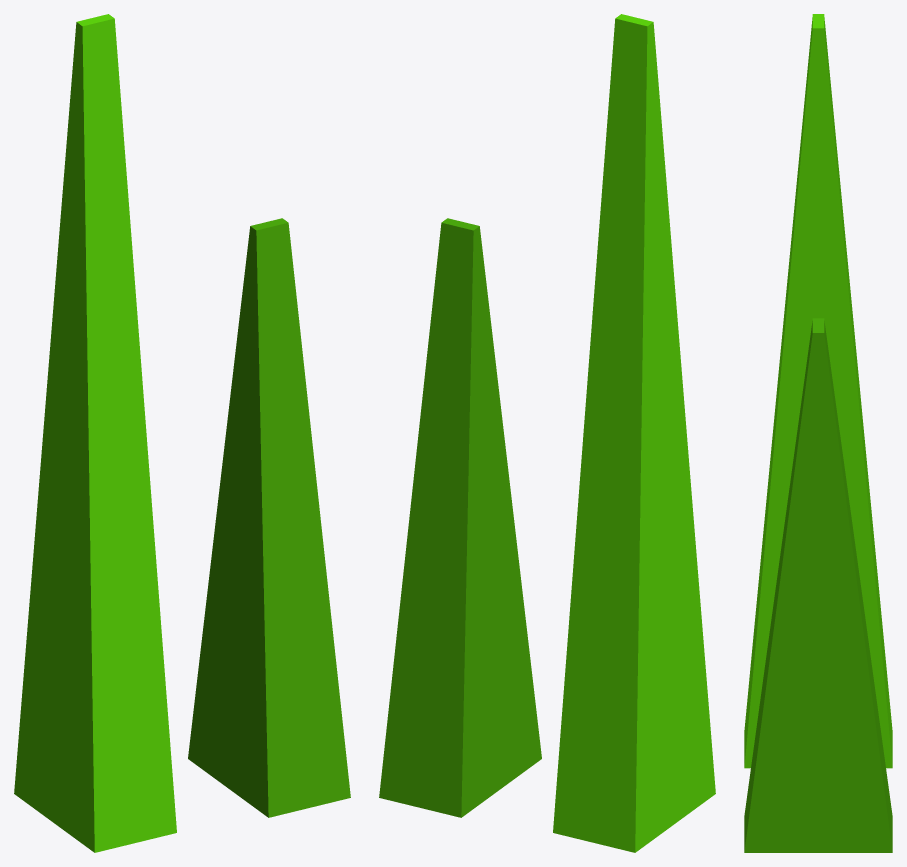
Rendered from grassParts.fbx.
3 views of the same model, side by side, from view 1: azimuth 30°, elevation 25°; view 2: azimuth 150°, elevation 25°; view 3: azimuth 270°, elevation 25° (orthographic). The views are drawn at different scales.
Visible parts, largest first — view 1: grassPart2, grassPart; view 2: grassPart2, grassPart; view 3: grassPart, grassPart2.
Boxes of the visible parts, box(x1,y1,x2,y2) form: grassPart2: box(14, 14, 176, 852); grassPart: box(188, 218, 350, 817); grassPart2: box(553, 14, 715, 852); grassPart: box(379, 218, 541, 817); grassPart: box(744, 318, 892, 852); grassPart2: box(744, 14, 892, 768).
Size of the model in its own units: 67.58 by 202 by 36.88.
